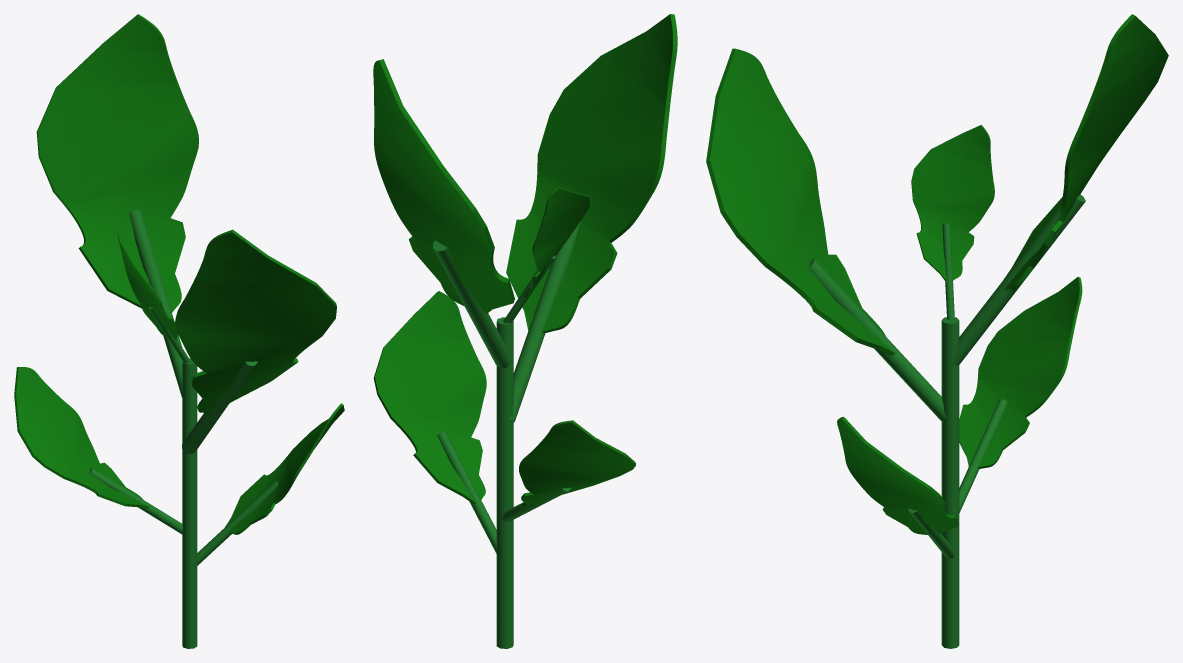
File: 茄子成長1.FBX
3 renders of one model, left to right at view 1: azimuth 30°, elevation 25°; view 2: azimuth 150°, elevation 25°; view 3: azimuth 270°, elevation 25°, orthographic. The views are drawn at different scales.
Visible parts, largest first — view 1: Line002, Line001, Line004, Cylinder001, Line003, Cylinder002, Line005, Cylinder003, Cylinder004, Cylinder005; view 2: Line001, Line003, Line002, Line004, Cylinder001, Cylinder003, Line005, Cylinder002, Cylinder004, Cylinder005, Cylinder006; view 3: Line001, Line004, Line002, Line005, Cylinder001, Line003, Cylinder002, Cylinder003, Cylinder005, Cylinder006.
Part boxes in pixels (x1=…): Line002: x1=36, y1=14, x2=198, y2=312; Line001: x1=175, y1=229, x2=336, y2=412; Line004: x1=14, y1=367, x2=149, y2=508; Cylinder001: x1=182, y1=358, x2=197, y2=648; Line003: x1=224, y1=403, x2=344, y2=534; Cylinder002: x1=129, y1=209, x2=182, y2=397; Line005: x1=115, y1=224, x2=177, y2=340; Cylinder003: x1=182, y1=361, x2=257, y2=454; Cylinder004: x1=197, y1=481, x2=278, y2=565; Cylinder005: x1=89, y1=468, x2=183, y2=534; Line001: x1=506, y1=14, x2=677, y2=332; Line003: x1=373, y1=291, x2=486, y2=504; Line002: x1=373, y1=59, x2=514, y2=313; Line004: x1=519, y1=420, x2=635, y2=508; Cylinder001: x1=496, y1=317, x2=513, y2=648; Cylinder003: x1=509, y1=221, x2=580, y2=422; Line005: x1=523, y1=187, x2=589, y2=298; Cylinder002: x1=433, y1=240, x2=511, y2=368; Cylinder004: x1=437, y1=431, x2=496, y2=553; Cylinder005: x1=502, y1=487, x2=570, y2=521; Cylinder006: x1=503, y1=255, x2=555, y2=323; Line001: x1=706, y1=48, x2=895, y2=356; Line004: x1=959, y1=277, x2=1082, y2=468; Line002: x1=1004, y1=14, x2=1168, y2=291; Line005: x1=911, y1=124, x2=994, y2=281; Cylinder001: x1=941, y1=317, x2=959, y2=648; Line003: x1=837, y1=416, x2=958, y2=534; Cylinder002: x1=951, y1=194, x2=1085, y2=365; Cylinder003: x1=808, y1=259, x2=946, y2=422; Cylinder005: x1=959, y1=399, x2=1007, y2=512; Cylinder006: x1=942, y1=223, x2=954, y2=320.
Bounding box in the file's own units: 21.91 × 44.38 × 28.8.
